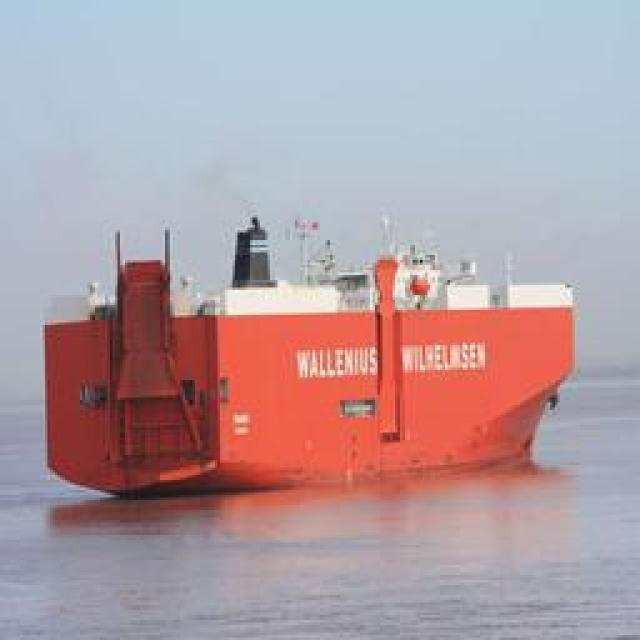ship2: (44, 210, 577, 501)
